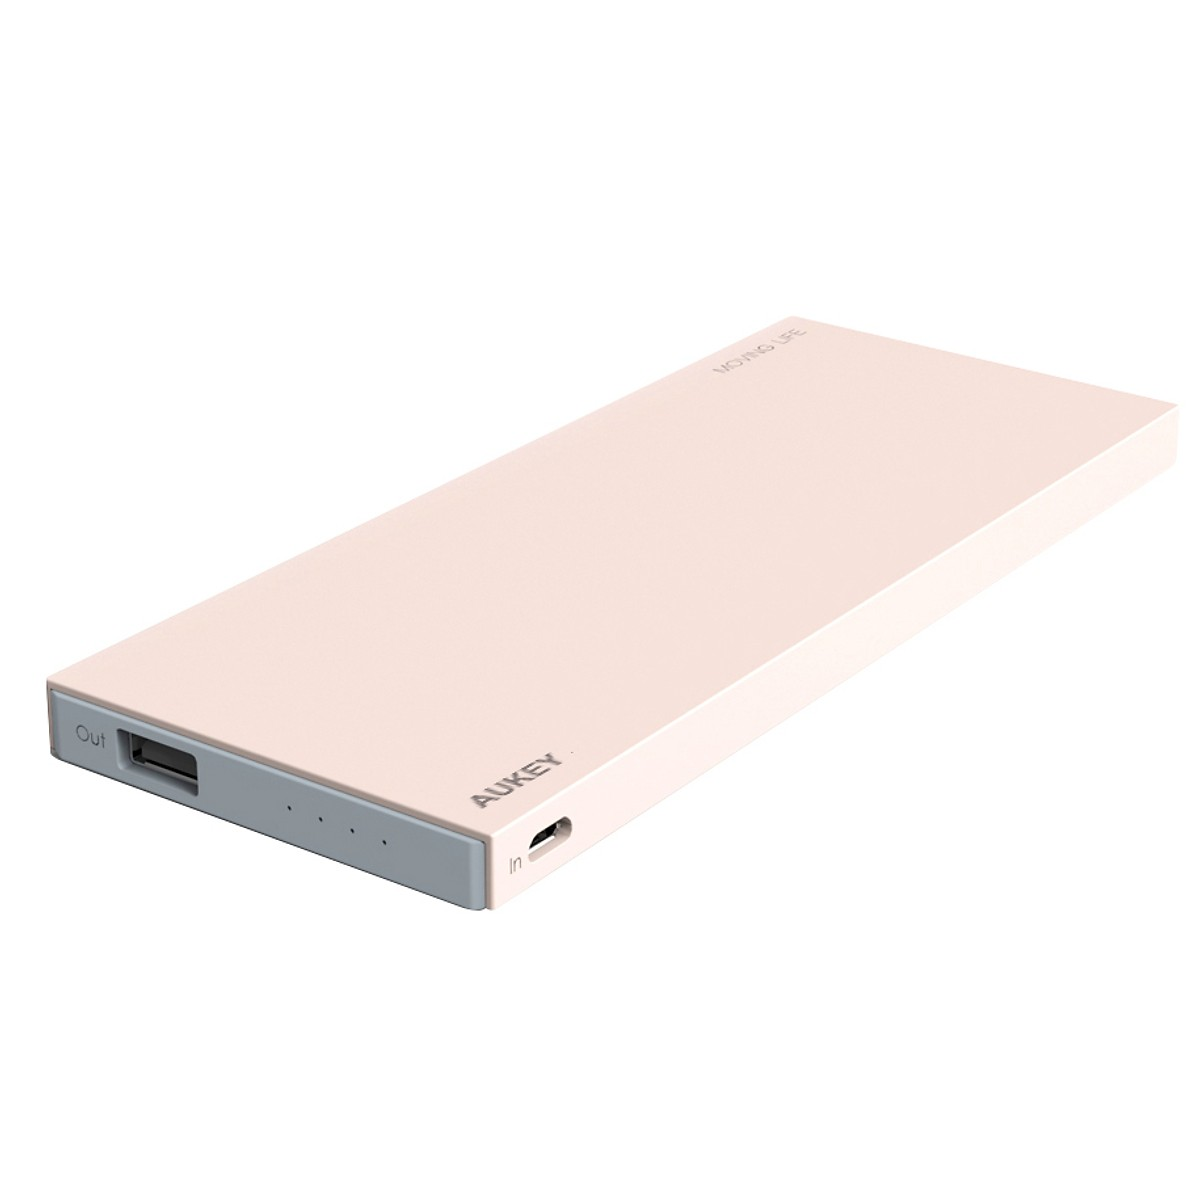Aukey: (386, 705, 625, 840)
